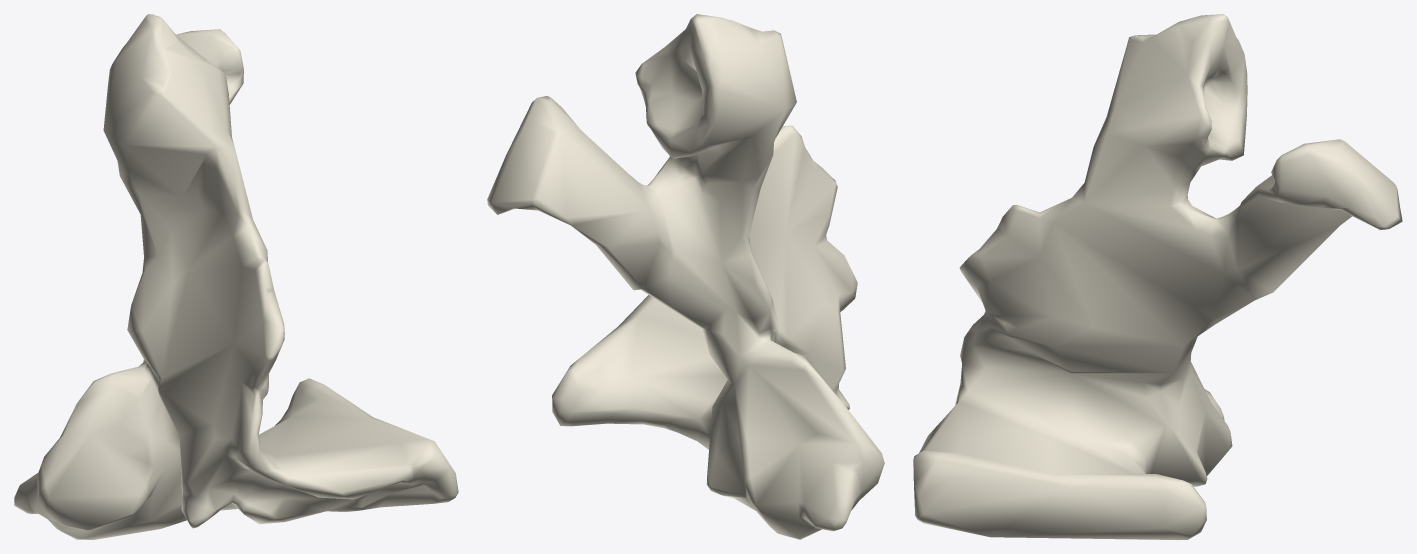
3 views of the same model, side by side, from view 1: azimuth 30°, elevation 25°; view 2: azimuth 150°, elevation 25°; view 3: azimuth 270°, elevation 25° (orthographic). The views are drawn at different scales.
Parts seen in each view (by area): view 1: ZA_7144427aebbe172f; view 2: ZA_7144427aebbe172f; view 3: ZA_7144427aebbe172f.
Part boxes in pixels (left/top/right/bottom): ZA_7144427aebbe172f: left=14, top=14, right=458, bottom=539; ZA_7144427aebbe172f: left=487, top=14, right=884, bottom=539; ZA_7144427aebbe172f: left=913, top=14, right=1402, bottom=539.
Size of the model in its own units: 0.0263 by 0.0402 by 0.0352.
